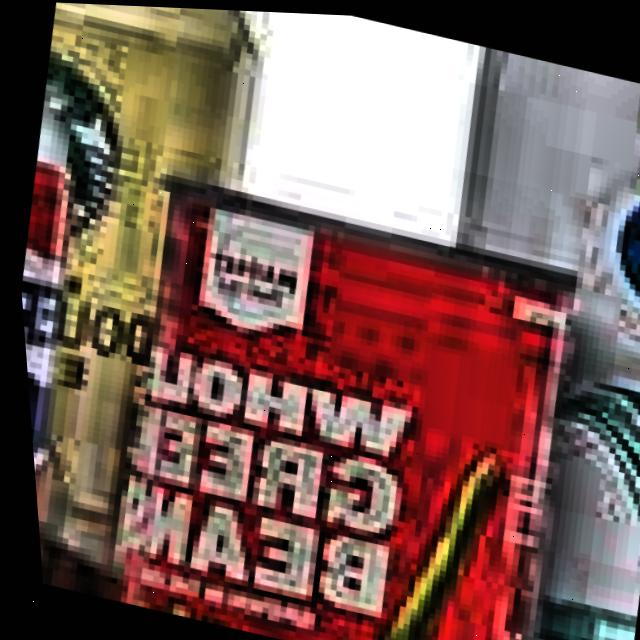metal: (62, 150, 611, 640), (0, 0, 315, 624), (358, 35, 640, 640)
